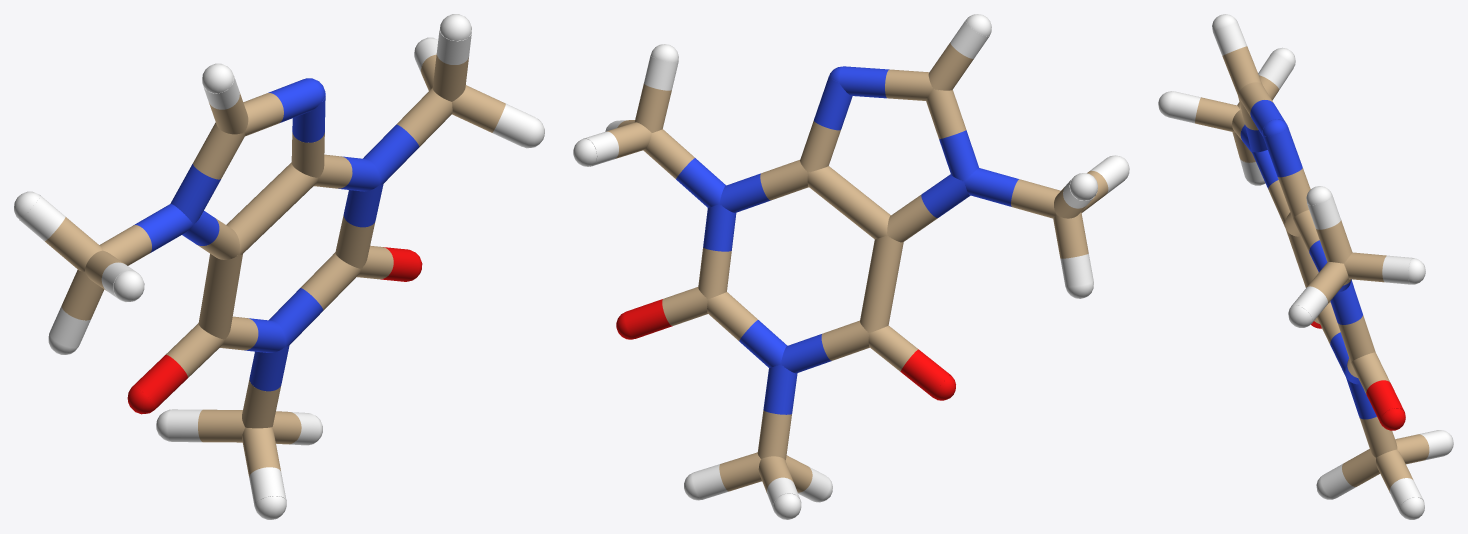
The picture shows the model from 3 angles, left to right: view 1: azimuth 30°, elevation 25°; view 2: azimuth 150°, elevation 25°; view 3: azimuth 270°, elevation 25°; orthographic projection. The views are drawn at different scales.
Visible parts, largest first — view 1: subnode_50, subnode_51, subnode_43, subnode_33, subnode_32, subnode_37, subnode_54, subnode_42, subnode_60, subnode_36, subnode_24, subnode_25 (+37 smaller); view 2: subnode_51, subnode_50, subnode_37, subnode_38, subnode_44, subnode_32, subnode_43, subnode_31, subnode_29, subnode_35, subnode_45, subnode_33 (+29 smaller); view 3: subnode_46, subnode_62, subnode_52, subnode_56, subnode_31, subnode_58, subnode_47, subnode_54, subnode_66, subnode_45, subnode_30, subnode_26 (+28 smaller).
Boxes of the visible parts, x1=… form: subnode_50: x1=226, y1=162, x2=318, y2=254; subnode_51: x1=198, y1=253, x2=242, y2=339; subnode_43: x1=300, y1=252, x2=361, y2=310; subnode_33: x1=396, y1=88, x2=452, y2=146; subnode_32: x1=363, y1=124, x2=419, y2=184; subnode_37: x1=193, y1=122, x2=245, y2=179; subnode_54: x1=452, y1=85, x2=505, y2=132; subnode_42: x1=269, y1=288, x2=323, y2=346; subnode_60: x1=45, y1=217, x2=102, y2=271; subnode_36: x1=170, y1=163, x2=220, y2=224; subnode_24: x1=132, y1=355, x2=187, y2=409; subnode_25: x1=165, y1=323, x2=224, y2=377; subnode_51: x1=860, y1=236, x2=903, y2=333; subnode_50: x1=807, y1=166, x2=890, y2=239; subnode_37: x1=926, y1=89, x2=966, y2=139; subnode_38: x1=964, y1=168, x2=1018, y2=206; subnode_44: x1=763, y1=364, x2=797, y2=414; subnode_32: x1=676, y1=158, x2=725, y2=207; subnode_43: x1=707, y1=292, x2=757, y2=340; subnode_31: x1=698, y1=247, x2=731, y2=298; subnode_29: x1=760, y1=160, x2=808, y2=200; subnode_35: x1=887, y1=194, x2=937, y2=242; subnode_45: x1=757, y1=410, x2=791, y2=460; subnode_33: x1=643, y1=129, x2=694, y2=178; subnode_46: x1=1263, y1=127, x2=1302, y2=177; subnode_62: x1=1195, y1=97, x2=1239, y2=132; subnode_52: x1=1222, y1=46, x2=1262, y2=95; subnode_56: x1=1344, y1=252, x2=1386, y2=282; subnode_31: x1=1337, y1=315, x2=1375, y2=361; subnode_58: x1=1316, y1=220, x2=1352, y2=263; subnode_47: x1=1277, y1=168, x2=1310, y2=218; subnode_54: x1=1307, y1=262, x2=1348, y2=303; subnode_66: x1=1342, y1=449, x2=1379, y2=486; subnode_45: x1=1359, y1=417, x2=1397, y2=457; subnode_30: x1=1330, y1=280, x2=1362, y2=324; subnode_26: x1=1366, y1=380, x2=1404, y2=421.
Bounding box in the file's own units: 7.63 × 7.15 × 4.38.
